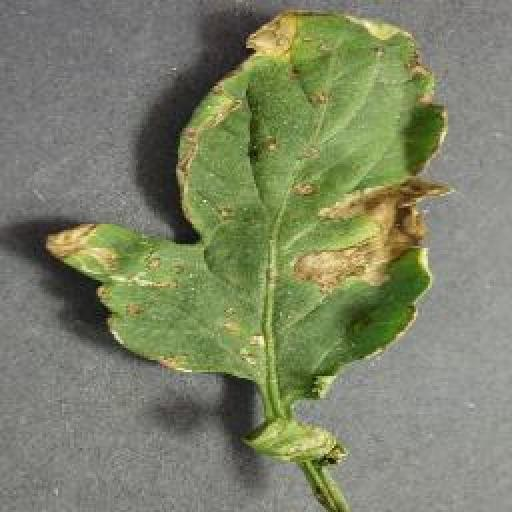Bacterial Spot: (45, 7, 456, 401)
